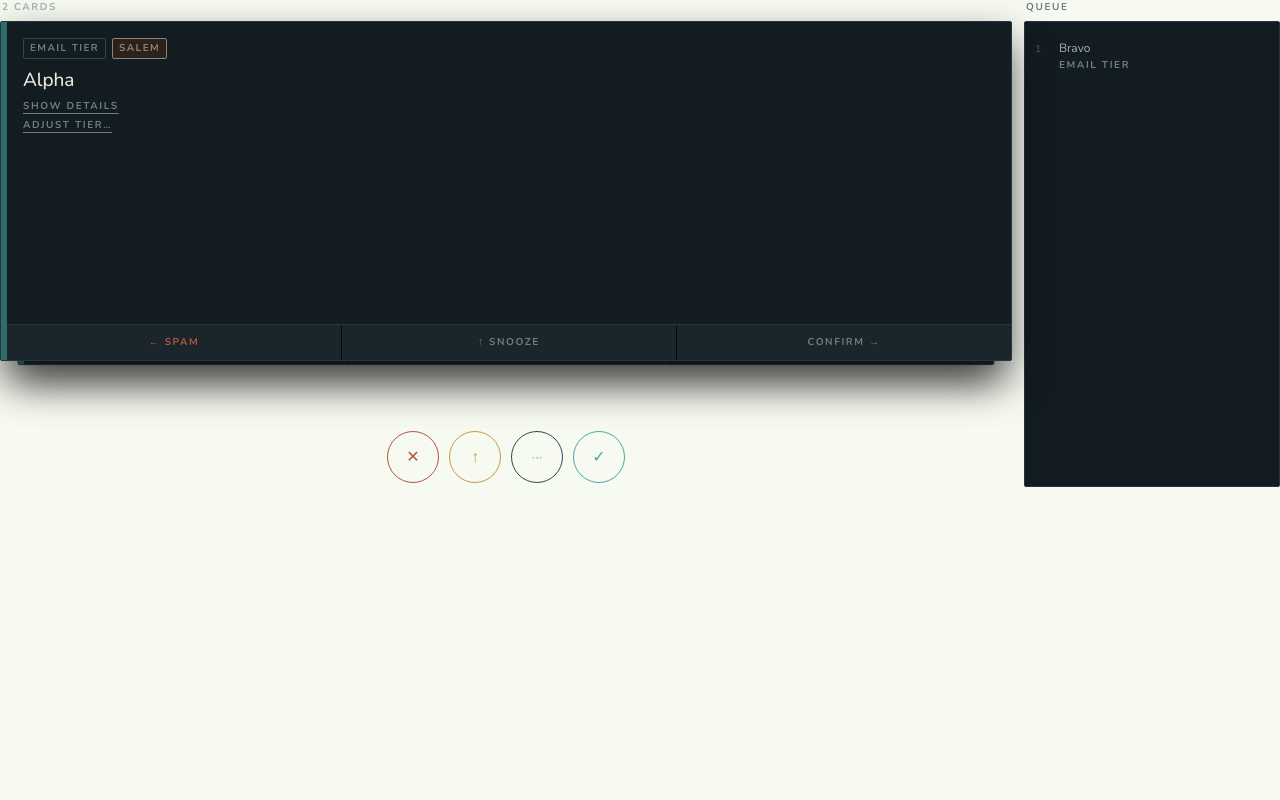
Scenario: Deck — snoozed drill-down (task #26 render) › the Snoozed label is a BUTTON that opens the panel listing snoozed cards
Click the button with test id "deck-btn-snooze": (475, 457) [449,431,501,483]
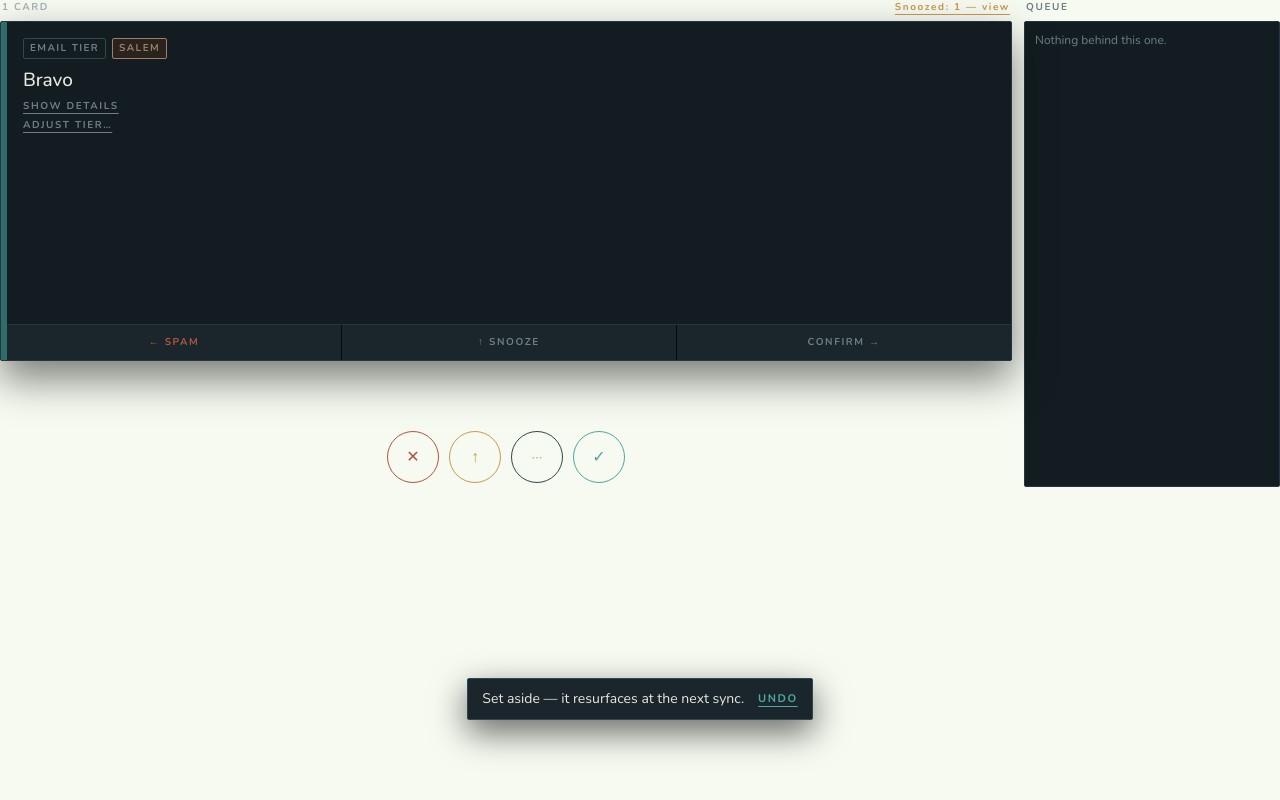
Now the button with test id "deck-snoozed" shows "view"
Click the button with test id "deck-snoozed": (952, 8) [895,0,1010,15]
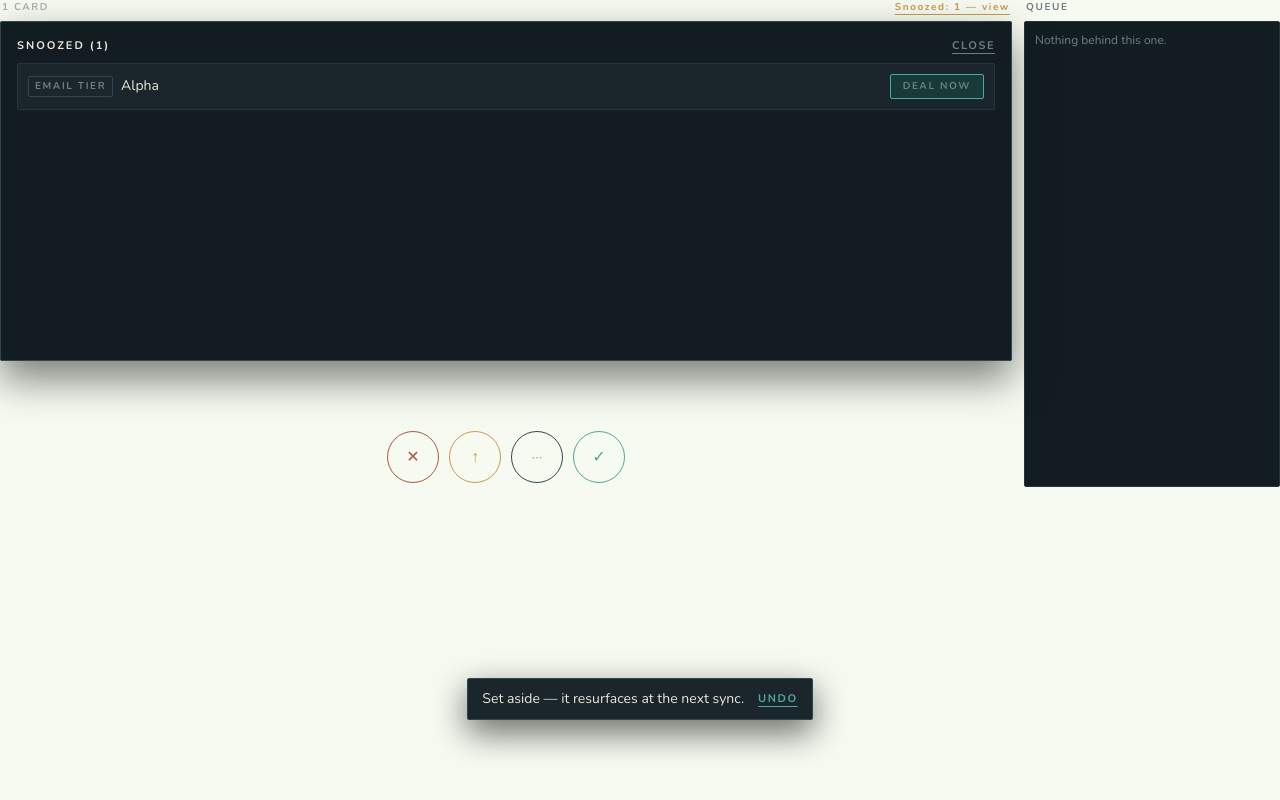
Now the dialog with test id "deck-snoozed-panel" is shown, box [0,21,1012,361]
Now the number of list items with test id "deck-snoozed-row" is 1, box [17,62,995,110]
Now the list item with test id "deck-snoozed-row" shows "Alpha", box [121,76,159,95]
